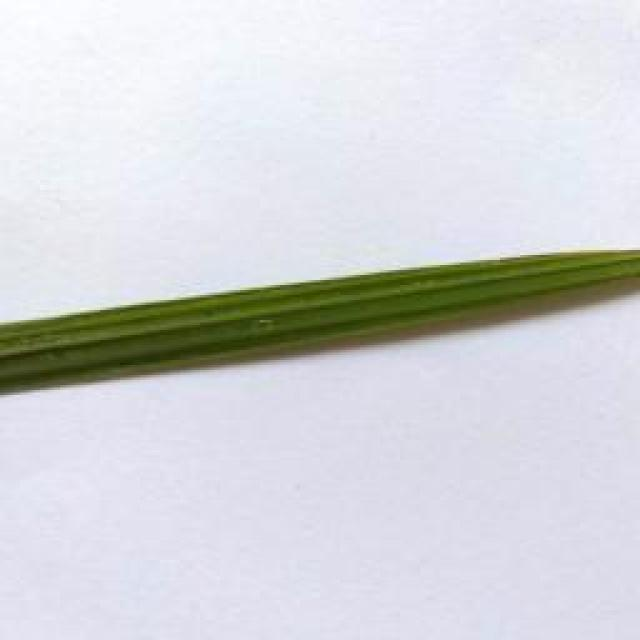Healthy-Plant: (0, 245, 640, 403)
